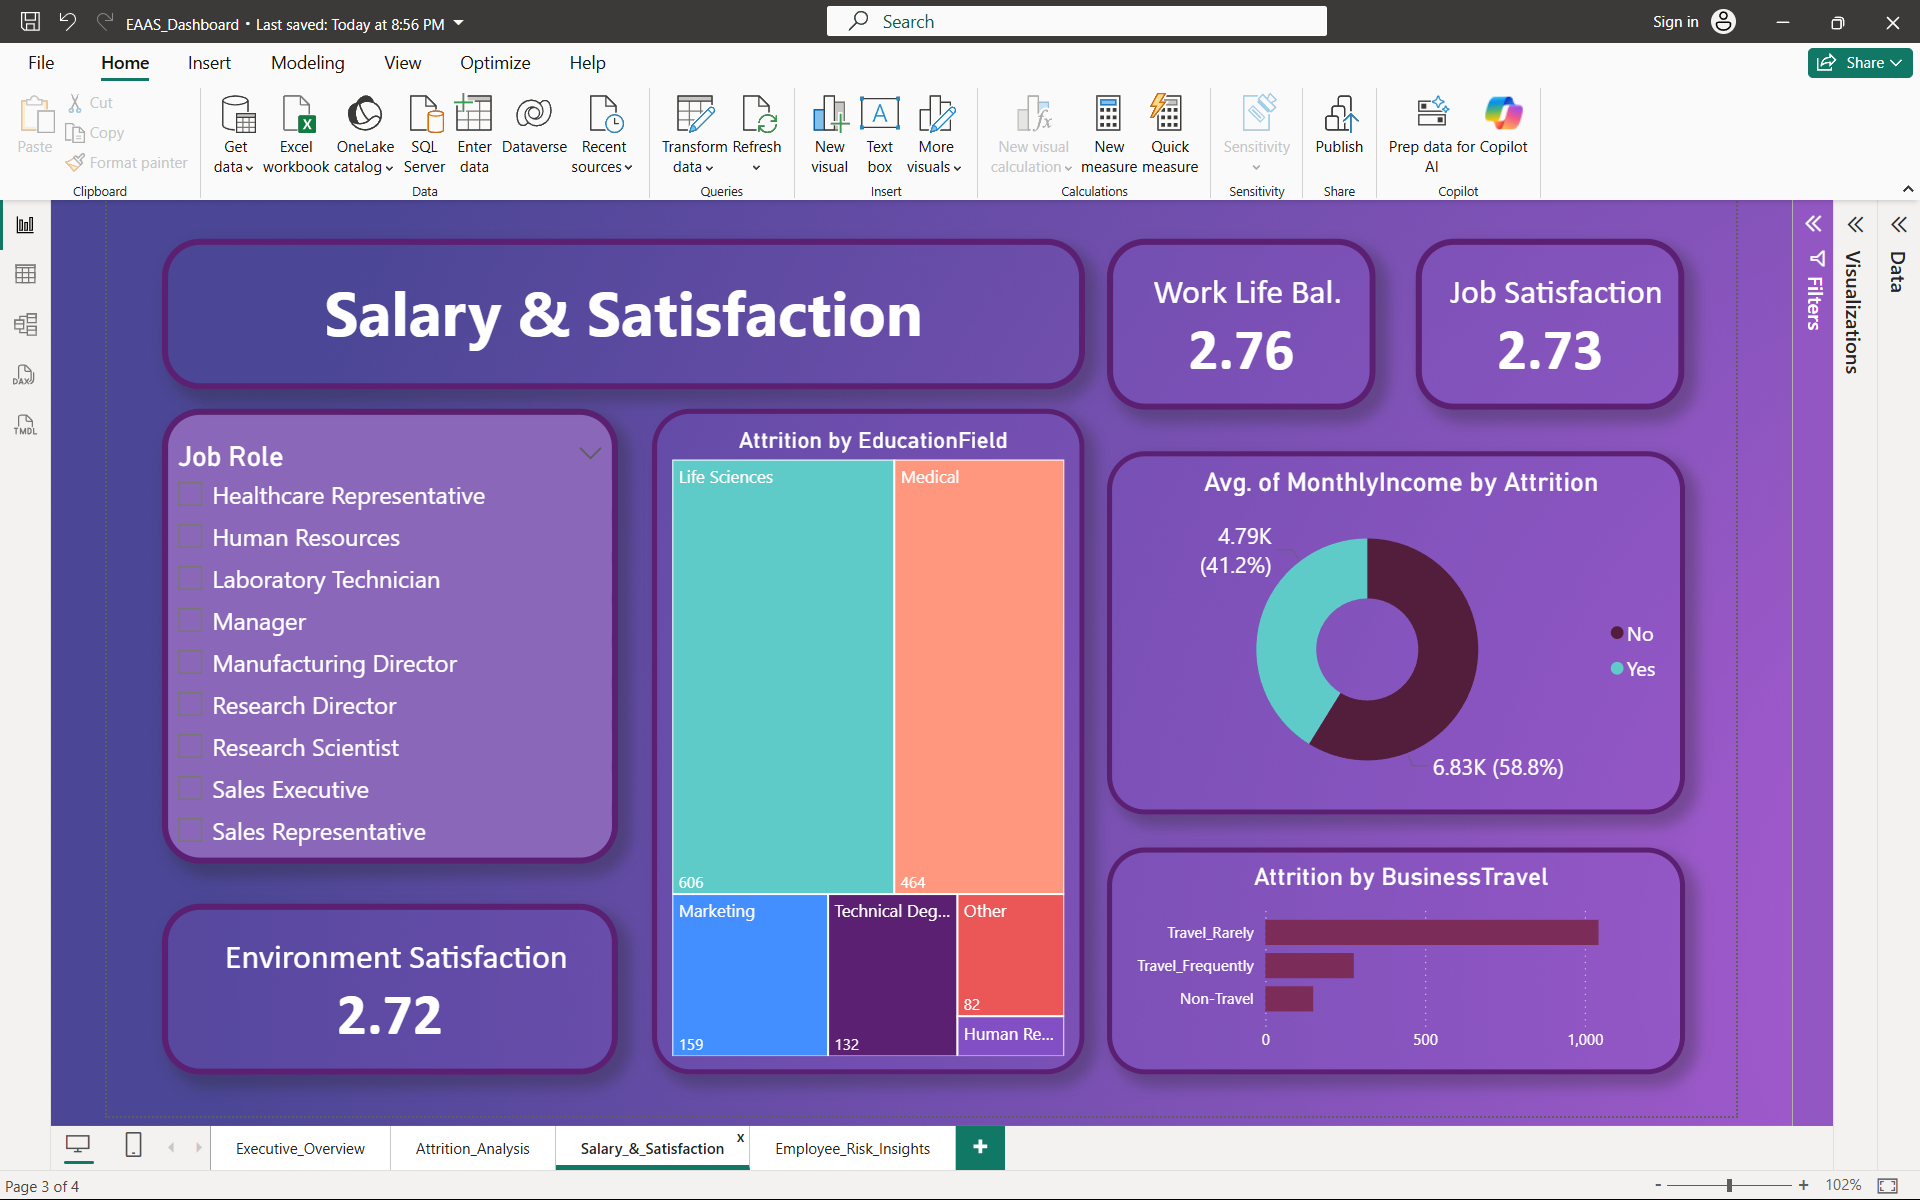

This screenshot's page, from the dashboard's own definition file:
{"tool":"powerbi","page":{"name":"Salary_&_Satisfaction","canvas":[1280,720],"ordinal":2},"visuals":[{"type":"donutChart","title":"Avg. of MonthlyIncome by Attrition","fields":{"Category":["cleaned_attrition.Attrition"],"Y":["Avg(cleaned_attrition.MonthlyIncome)"]},"box":[785.9,197.2,454.4,285.8],"z":0},{"type":"card","title":"Job Satisfaction","fields":{"Values":["Avg(cleaned_attrition.JobSatisfaction)"]},"box":[1028.8,30,211.5,134.3],"z":1000},{"type":"card","title":"Work Life Bal.","fields":{"Values":["Avg(cleaned_attrition.WorkLifeBalance)"]},"box":[785.9,30,211.5,134.3],"z":2000},{"type":"card","title":"Environment Satisfaction","fields":{"Values":["Avg(cleaned_attrition.EnvironmentSatisfaction)"]},"box":[42.9,553,358.7,134.3],"z":3000},{"type":"clusteredBarChart","title":"Attrition by BusinessTravel","fields":{"Category":["cleaned_attrition.BusinessTravel"],"Y":["CountNonNull(cleaned_attrition.Attrition)"]},"box":[785.9,508.7,454.4,178.6],"z":4000},{"type":"slicer","fields":{"Values":["cleaned_attrition.JobRole"]},"box":[42.9,164.3,358.7,357.2],"z":5000},{"type":"treemap","title":"Attrition by EducationField","fields":{"Values":["CountNonNull(cleaned_attrition.Attrition)"],"Group":["cleaned_attrition.EducationField"]},"box":[428.7,164.3,340.1,523],"z":6000},{"type":"textbox","box":[42.9,30,725.9,118.6],"z":7000}]}

Visuals, with their boxes on the page's 1280x720 design canvas (x1, y1, x2, y2). These are canvas units, not pixel positions in the 1920x1200 screenshot, which may show the page scaled, cropped or inside an application window:
"Avg. of MonthlyIncome by Attrition" donutChart: locate(786, 197, 1240, 483)
"Job Satisfaction" card: locate(1029, 30, 1240, 164)
"Work Life Bal." card: locate(786, 30, 997, 164)
"Environment Satisfaction" card: locate(43, 553, 402, 687)
"Attrition by BusinessTravel" clusteredBarChart: locate(786, 509, 1240, 687)
slicer - cleaned_attrition.JobRole: locate(43, 164, 402, 522)
"Attrition by EducationField" treemap: locate(429, 164, 769, 687)
textbox: locate(43, 30, 769, 149)
